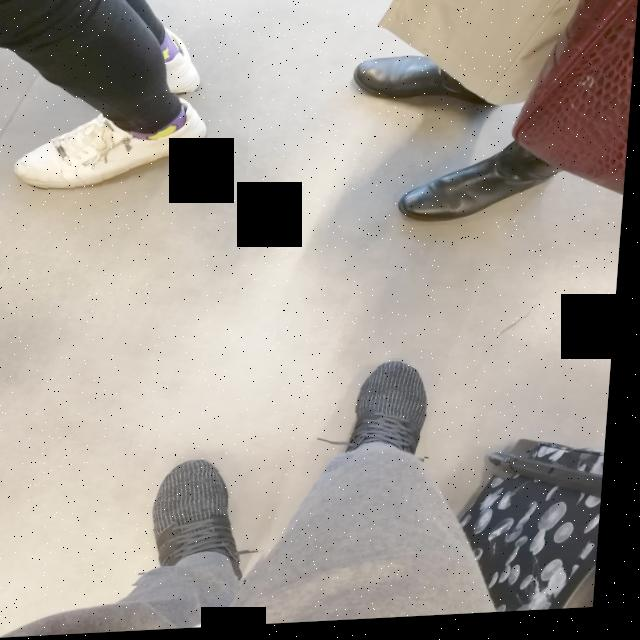shoe: (6, 91, 254, 201), (124, 431, 286, 589), (343, 356, 438, 471)
